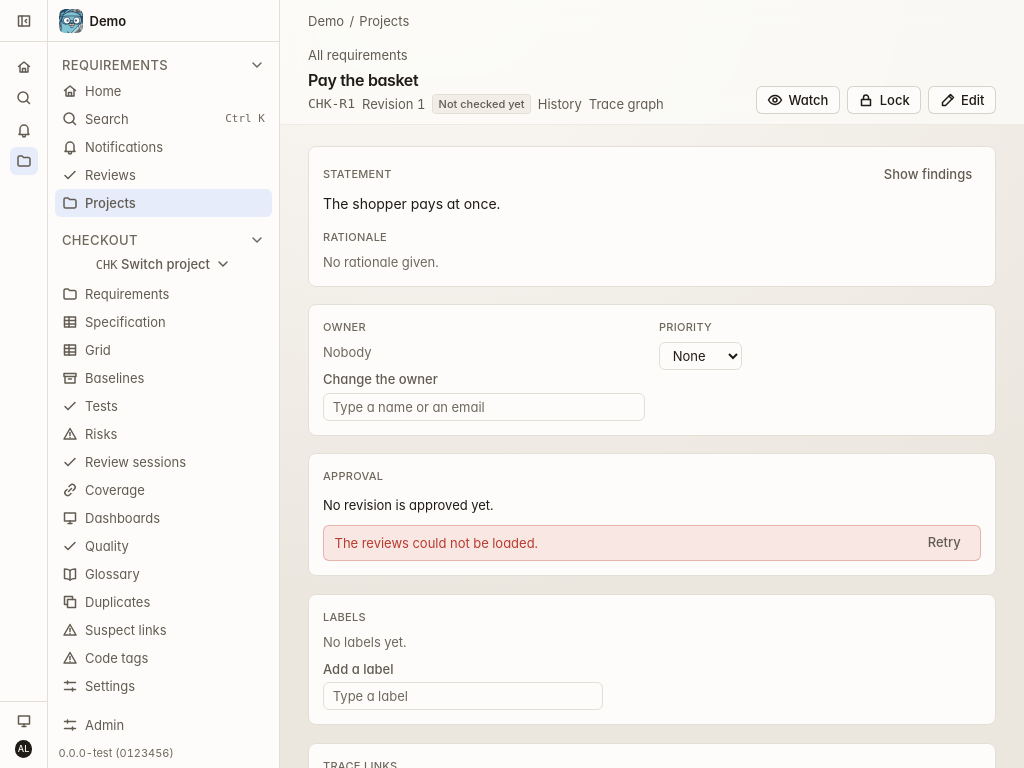
Test: a requirement's page › keeps the draft when somebody saved first, and saves over their revision when asked
Step 1. Click the button "Edit" → [962, 100], box [928,86,996,114]
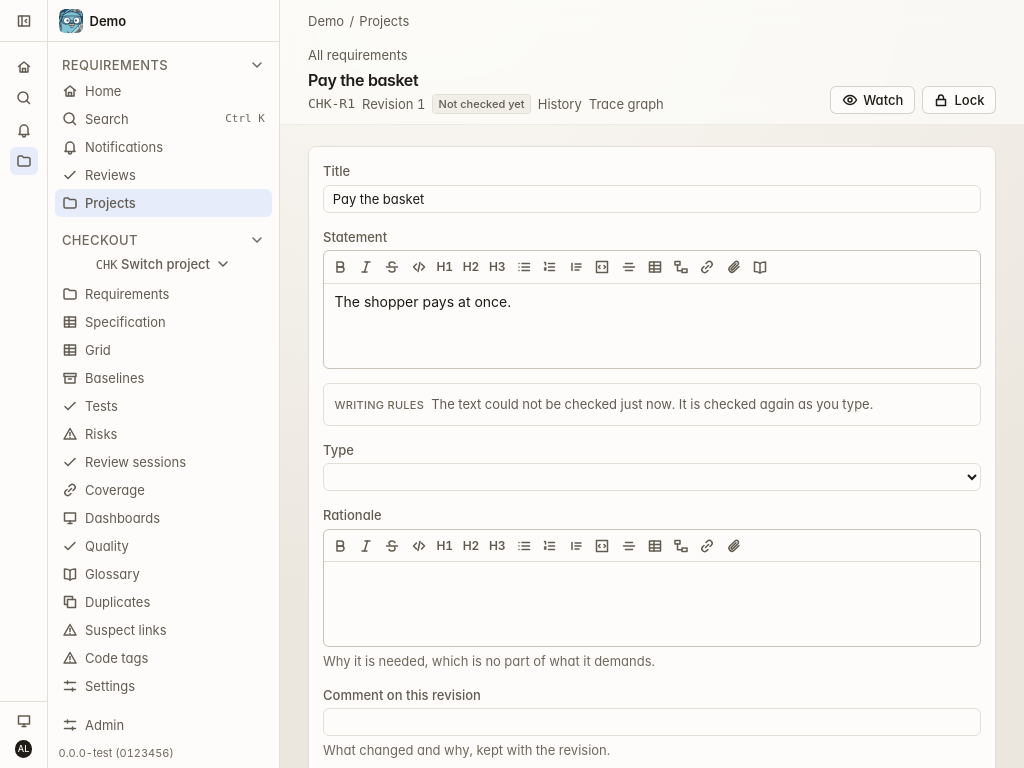
Step 2. Replace the text in the field labelled "Title" with "Mine" → [652, 199], box [323,185,981,213]
(page scrolled)
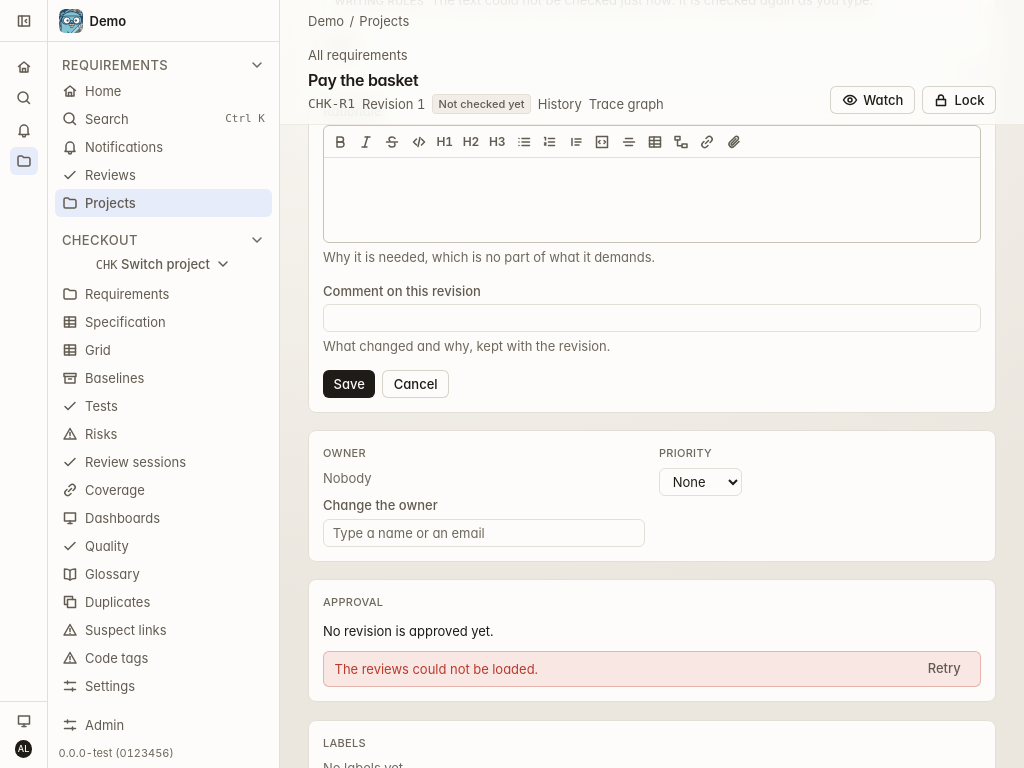
Step 3. Click the button "Save" → [349, 384], box [323,370,375,398]
(page scrolled)
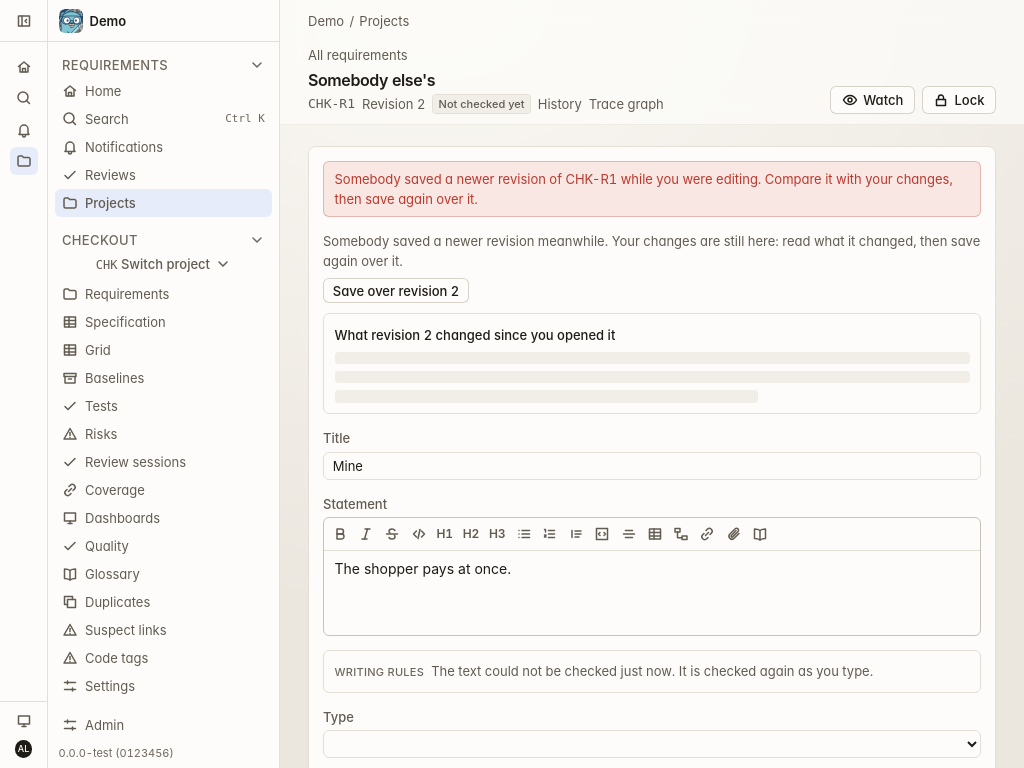
Expected: the text "Somebody saved a newer revision of CHK-R1" is shown, [334,171,953,207]
Step 4. Click the button "Save over revision 2" → [396, 291], box [323,278,469,303]
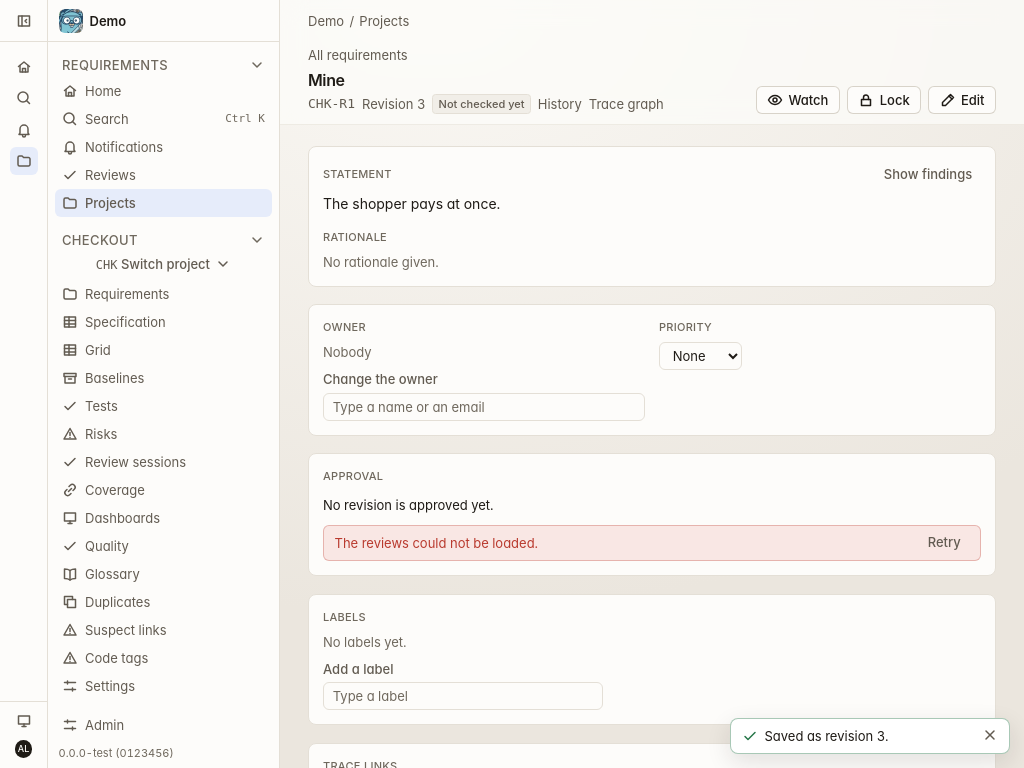
Expected: the text "Saved as revision 3." is shown, [764,728,889,744]
